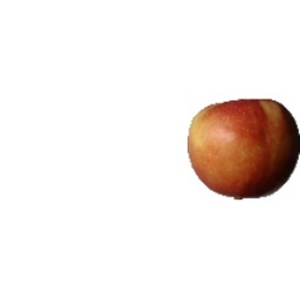maçã braeburn: (184, 94, 298, 201)
